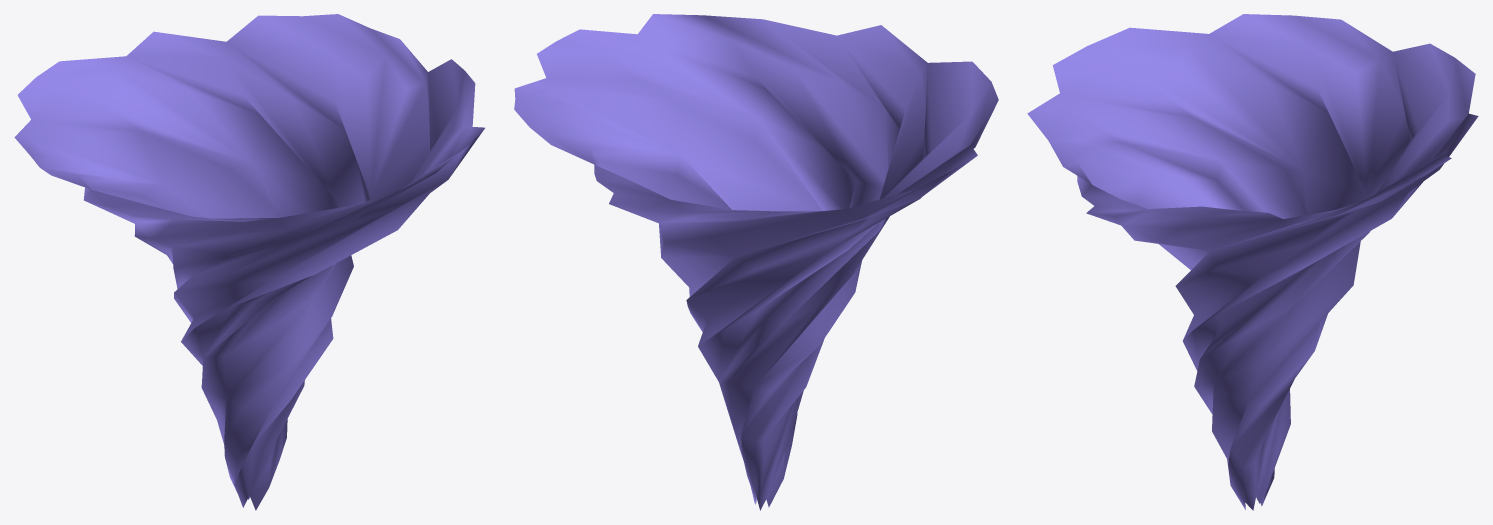
File: WhirlstormNEW.fbx
The picture shows the model from 3 angles, left to right: view 1: azimuth 30°, elevation 25°; view 2: azimuth 150°, elevation 25°; view 3: azimuth 270°, elevation 25°; orthographic projection. The views are drawn at different scales.
Visible parts, largest first — view 1: Cylinder; view 2: Cylinder; view 3: Cylinder.
Part boxes in pixels (x1,y1,x2,y2): Cylinder: (14, 14, 484, 510); Cylinder: (514, 14, 998, 510); Cylinder: (1027, 14, 1478, 510).
Bounding box in the file's own units: 329 × 304 × 306.
